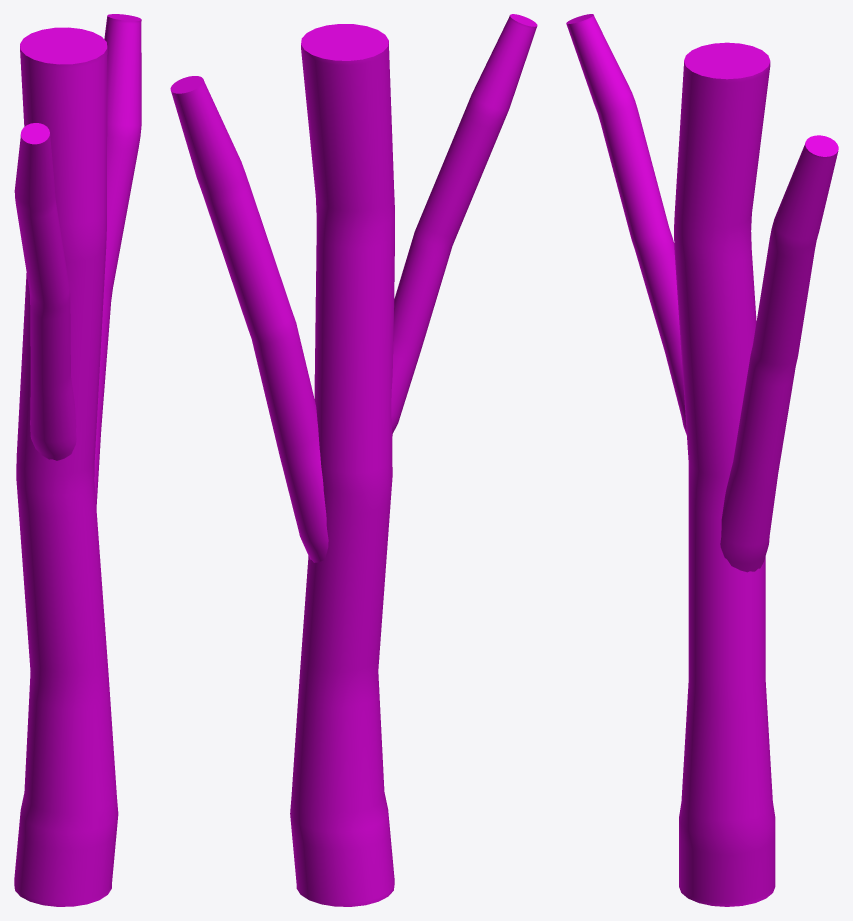
The model's file is tree_tall.fbx.
3 views of the same model, side by side, from view 1: azimuth 30°, elevation 25°; view 2: azimuth 150°, elevation 25°; view 3: azimuth 270°, elevation 25° (orthographic). The views are drawn at different scales.
Parts seen in each view (by area): view 1: tree_tall; view 2: tree_tall; view 3: tree_tall.
Boxes of the visible parts, x1,y1,x2,y2 form: tree_tall: (14,14,141,906); tree_tall: (170,14,537,906); tree_tall: (566,14,838,906).
Size of the model in its own units: 7.02 by 23.58 by 7.05.
